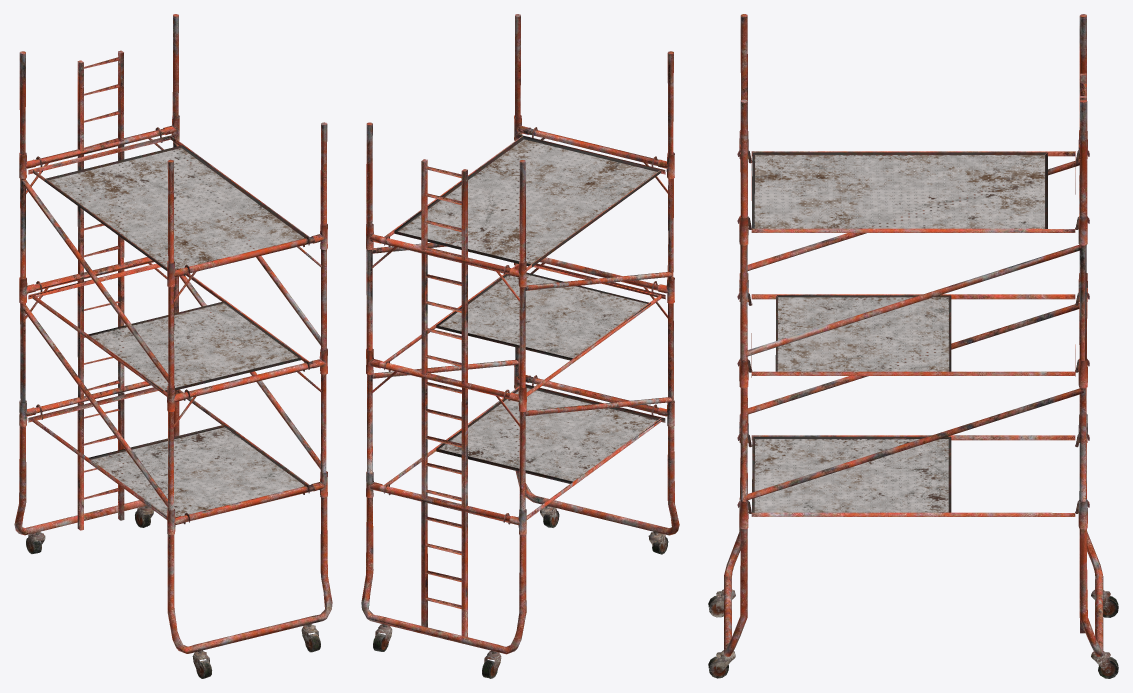
File: mdl_wollo_construction_scaffold.gltf
3 views of the same model, side by side, from view 1: azimuth 30°, elevation 25°; view 2: azimuth 150°, elevation 25°; view 3: azimuth 270°, elevation 25° (orthographic). The views are drawn at different scales.
Visible parts, largest first — view 1: PART_01; view 2: PART_01; view 3: PART_01.
Part boxes in pixels (x1,y1,x2,y2): PART_01: [14, 14, 332, 678]; PART_01: [361, 14, 679, 678]; PART_01: [708, 14, 1118, 678].
Bounding box in the file's own units: 2.98 × 9.11 × 5.76.
3 materials, 3 textured.
